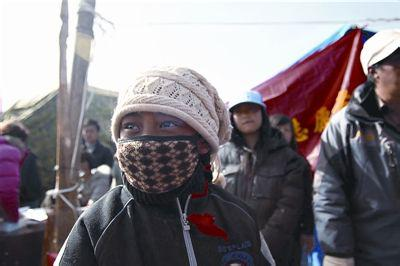NONE: (233, 108, 262, 135), (85, 128, 99, 144)
OK: (120, 119, 197, 193)
